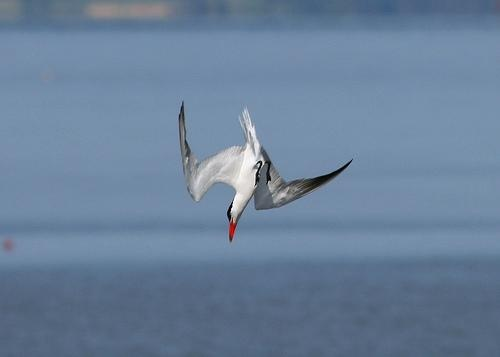bird: (178, 103, 354, 243)
